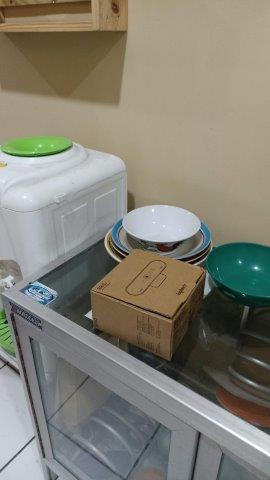kardus: (90, 249, 206, 358)
